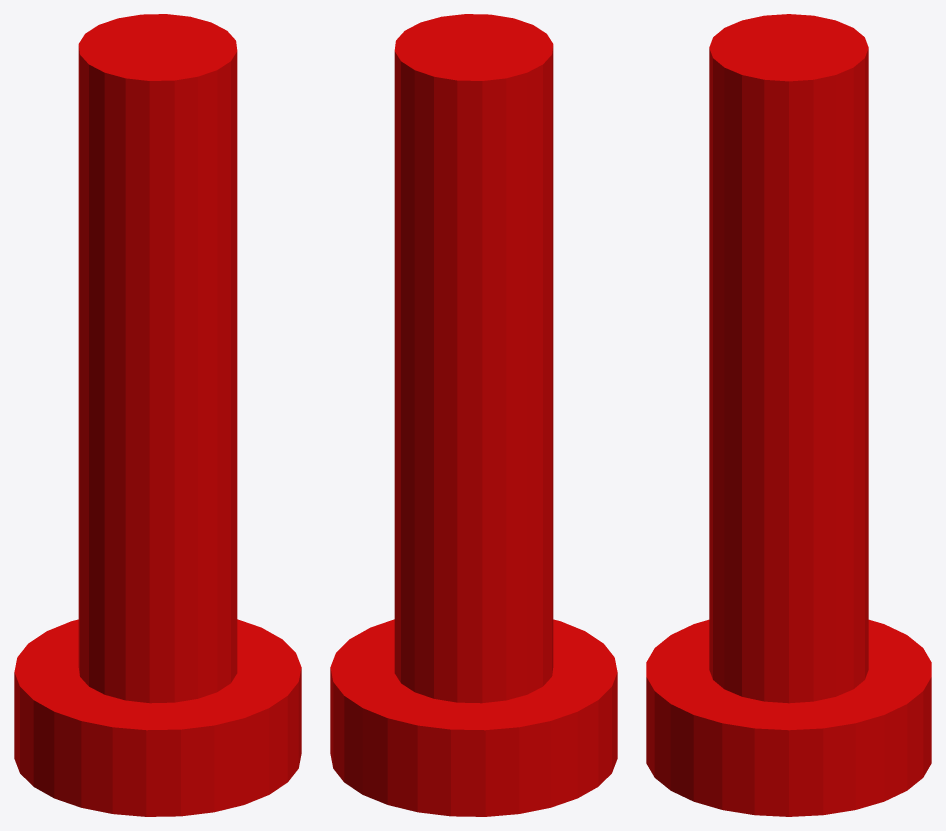
File: red_marker_can.dae
3 views of the same model, side by side, from view 1: azimuth 30°, elevation 25°; view 2: azimuth 150°, elevation 25°; view 3: azimuth 270°, elevation 25° (orthographic).
Visible parts, largest first — view 1: ShapeIndexedFaceSet; view 2: ShapeIndexedFaceSet; view 3: ShapeIndexedFaceSet.
Boxes of the visible parts, x1,y1,x2,y2 form: ShapeIndexedFaceSet: [14, 14, 301, 816]; ShapeIndexedFaceSet: [330, 14, 617, 816]; ShapeIndexedFaceSet: [646, 14, 931, 816].
Size of the model in its own units: 0.4572 by 0.4539 by 1.24.
